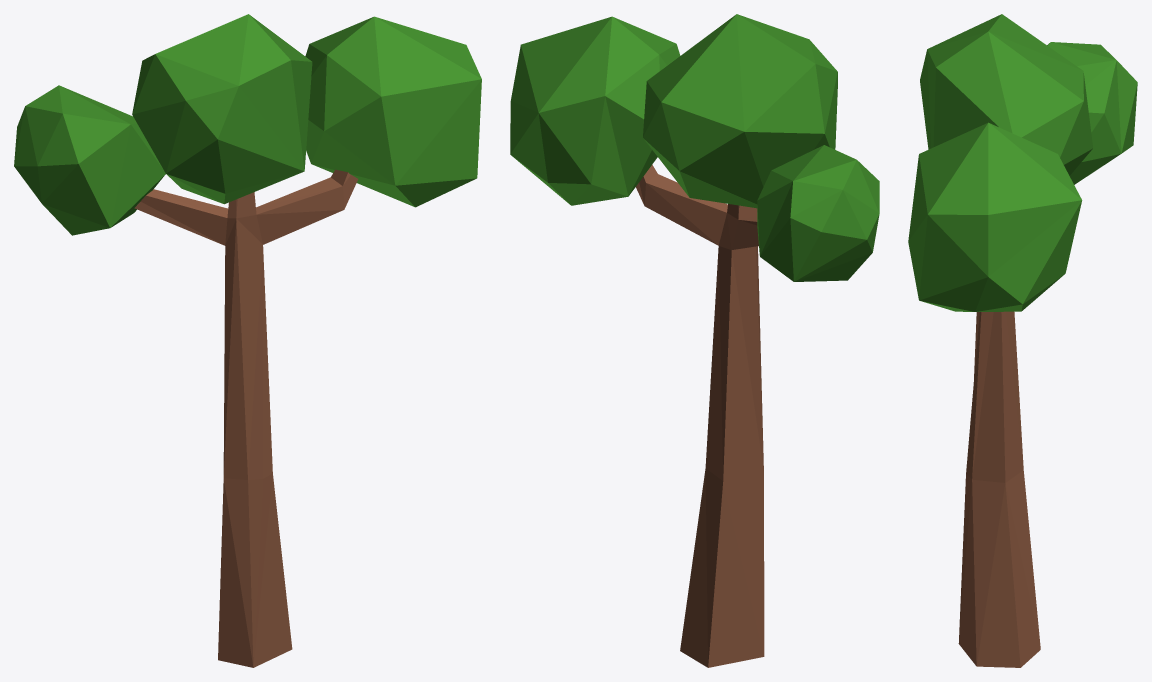
Rendered from Tree02.glb.
3 renders of one model, left to right at view 1: azimuth 30°, elevation 25°; view 2: azimuth 150°, elevation 25°; view 3: azimuth 270°, elevation 25°, orthographic. The views are drawn at different scales.
Visible parts, largest first — view 1: Tree_01; view 2: Tree_01; view 3: Tree_01.
Boxes of the visible parts, box(x1,y1,x2,y2) form: Tree_01: box(14, 14, 481, 667); Tree_01: box(510, 14, 879, 667); Tree_01: box(908, 14, 1137, 667).
Bounding box in the file's own units: 18.71 × 27.84 × 9.38.
Materials: 1 (1 with a texture image).
